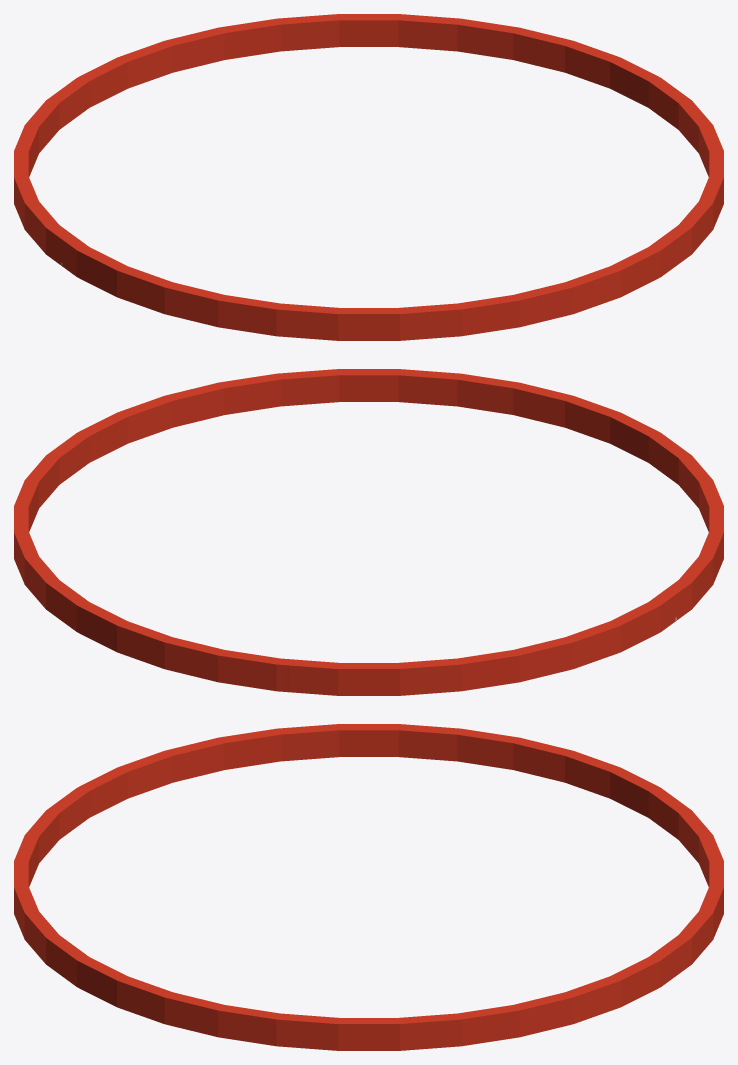
The model's file is basketballHoop2.fbx.
3 renders of one model, top to bottom at view 1: azimuth 30°, elevation 25°; view 2: azimuth 150°, elevation 25°; view 3: azimuth 270°, elevation 25°, orthographic.
Parts seen in each view (by area): view 1: 3:1; view 2: 3:1; view 3: 3:1.
Part boxes in pixels (x1,y1,x2,y2): 3:1: [14, 14, 723, 340]; 3:1: [14, 369, 723, 695]; 3:1: [14, 724, 723, 1050].
Size of the model in its own units: 60.96 by 2.58 by 60.96.
